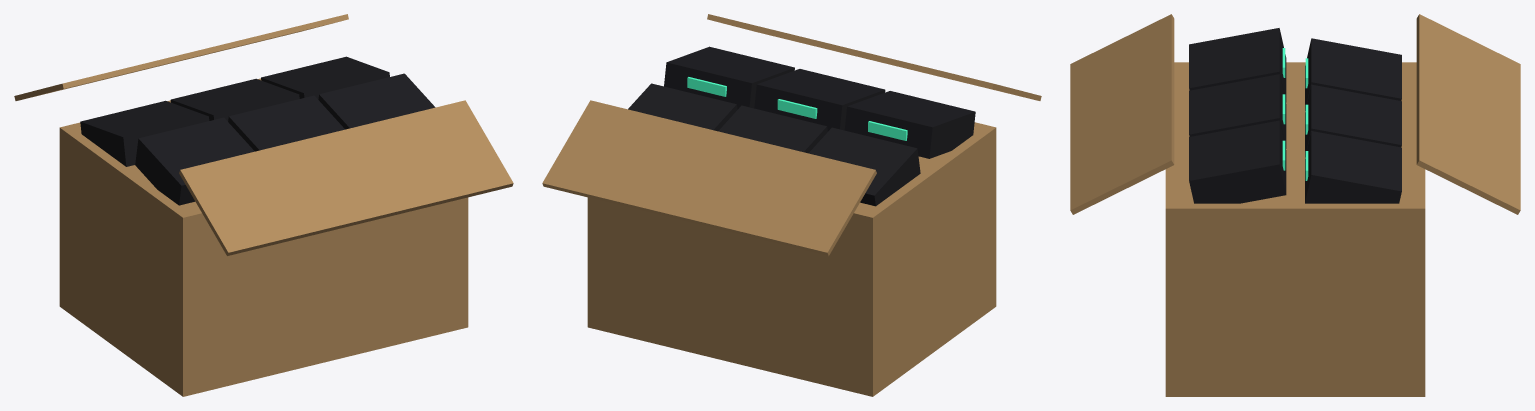
Rendered from car_radio_box.glb.
3 renders of one model, left to right at view 1: azimuth 30°, elevation 25°; view 2: azimuth 150°, elevation 25°; view 3: azimuth 270°, elevation 25°, orthographic. The views are drawn at different scales.
Visible parts, largest first — view 1: box_radio_card, flaps_radio_card, radios_moped_black; view 2: box_radio_card, flaps_radio_card, radios_moped_black, radios_radio_screen; view 3: box_radio_card, flaps_radio_card, radios_moped_black, radios_radio_screen.
Part boxes in pixels (bbox=[...]): box_radio_card: bbox=[59, 78, 468, 396]; flaps_radio_card: bbox=[14, 14, 513, 255]; radios_moped_black: bbox=[80, 56, 435, 205]; box_radio_card: bbox=[587, 122, 996, 396]; flaps_radio_card: bbox=[542, 14, 1041, 255]; radios_moped_black: bbox=[628, 46, 975, 206]; radios_radio_screen: bbox=[687, 77, 907, 140]; box_radio_card: bbox=[1165, 62, 1425, 396]; flaps_radio_card: bbox=[1070, 14, 1520, 214]; radios_moped_black: bbox=[1189, 28, 1401, 203]; radios_radio_screen: bbox=[1282, 48, 1308, 180].
Size of the model in its own units: 0.6 by 0.4523 by 0.7803.
